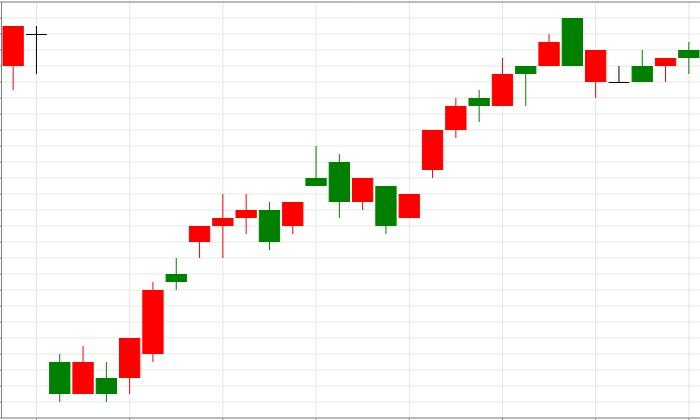bearish_engulfing_fall: (399, 18, 583, 219)
